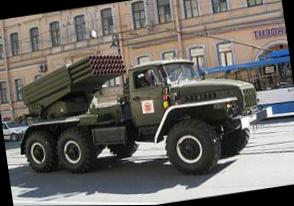rszo: (8, 33, 268, 193)
